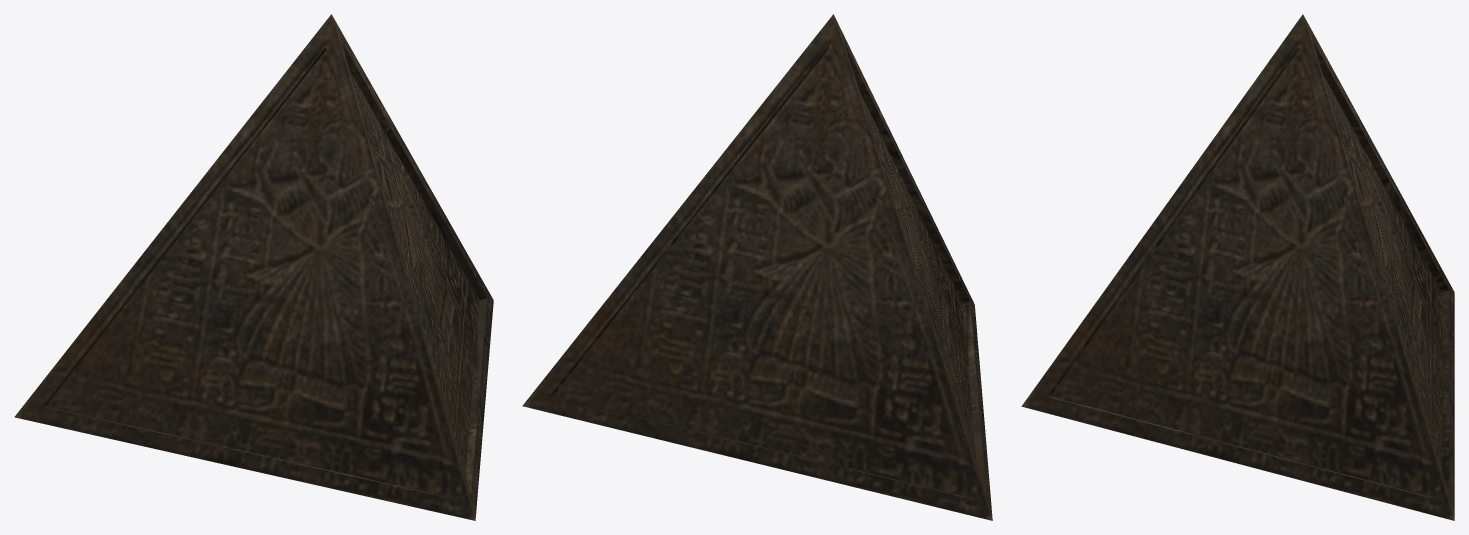
File: ancient_artifact_mx_1.fbx
3 renders of one model, left to right at view 1: azimuth 30°, elevation 25°; view 2: azimuth 150°, elevation 25°; view 3: azimuth 270°, elevation 25°, orthographic. The views are drawn at different scales.
Parts seen in each view (by area): view 1: ancient_artifact_mx_1; view 2: ancient_artifact_mx_1; view 3: ancient_artifact_mx_1.
Boxes of the visible parts, x1=… form: ancient_artifact_mx_1: x1=14, y1=14, x2=493, y2=520; ancient_artifact_mx_1: x1=522, y1=14, x2=992, y2=520; ancient_artifact_mx_1: x1=1021, y1=14, x2=1454, y2=520.
Size of the model in its own units: 0.5 by 0.4 by 0.4.
